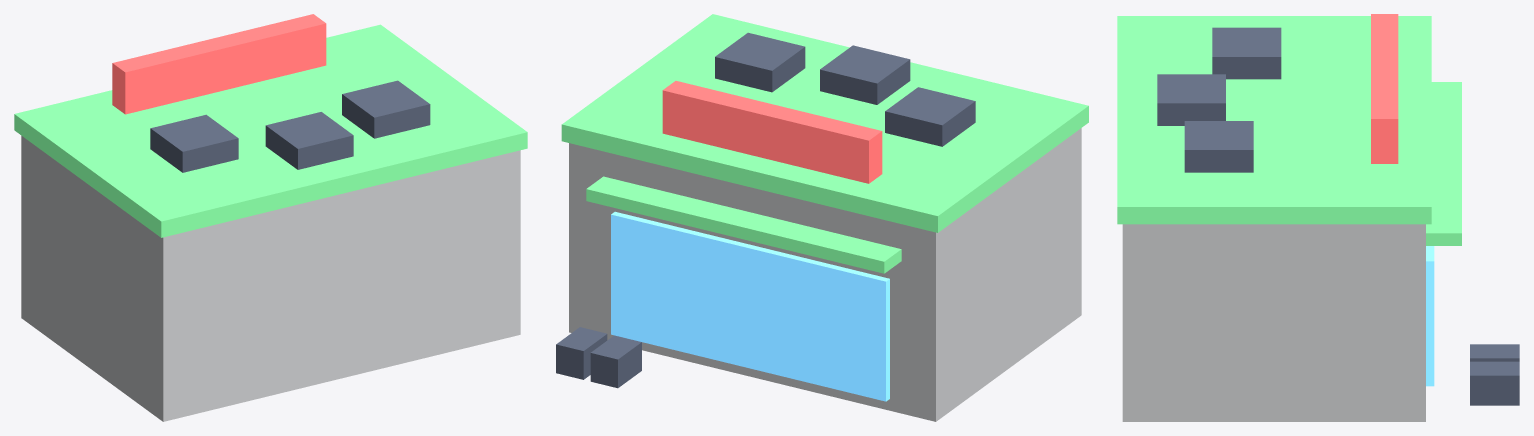
File: supermarket.glb
The picture shows the model from 3 angles, left to right: view 1: azimuth 30°, elevation 25°; view 2: azimuth 150°, elevation 25°; view 3: azimuth 270°, elevation 25°; orthographic projection. The views are drawn at different scales.
Visible parts, largest first — view 1: supermarket; view 2: supermarket; view 3: supermarket.
Boxes of the visible parts, bbox=[...] form: supermarket: bbox=[14, 14, 527, 421]; supermarket: bbox=[556, 14, 1088, 421]; supermarket: bbox=[1117, 14, 1519, 421].
Bounding box in the file's own units: 1.64 × 1.05 × 1.46.
